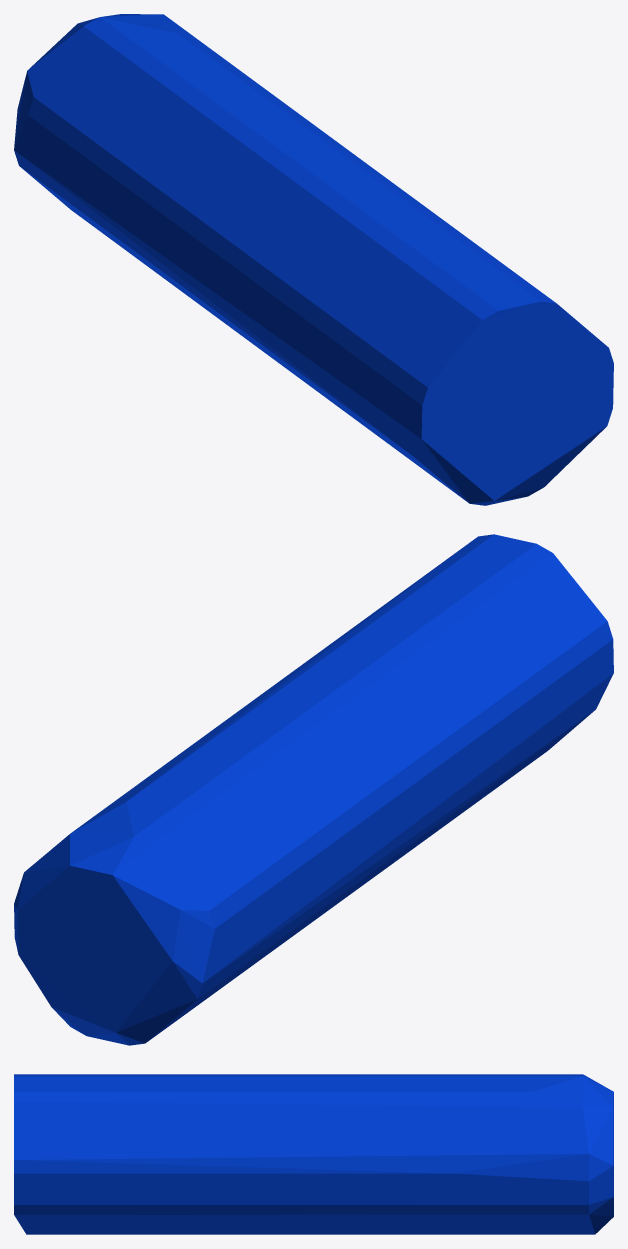
Rendered from model1_convex_piece_001.obj.
3 renders of one model, top to bottom at view 1: azimuth 30°, elevation 25°; view 2: azimuth 150°, elevation 25°; view 3: azimuth 270°, elevation 25°, orthographic. The views are drawn at different scales.
Size of the model in its own units: 0.00417 by 0.00418 by 0.0158.
